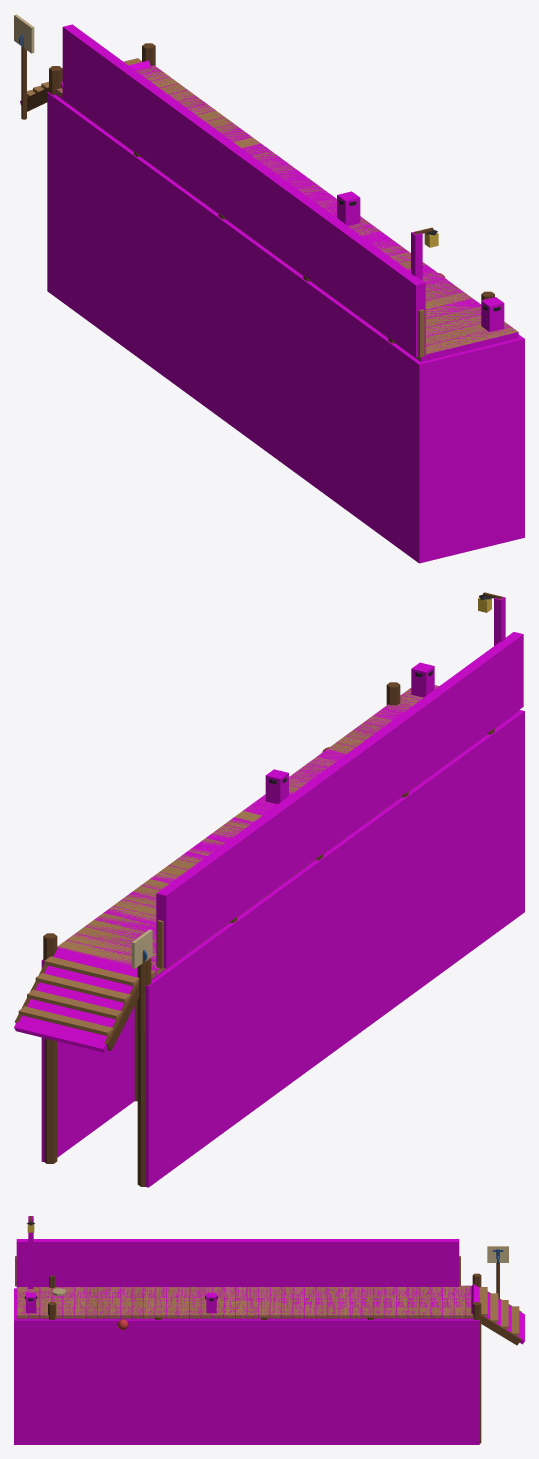
File: jetty.glb
The picture shows the model from 3 angles, top to bottom: view 1: azimuth 30°, elevation 25°; view 2: azimuth 150°, elevation 25°; view 3: azimuth 270°, elevation 25°; orthographic projection. The views are drawn at different scales.
Visible parts, largest first — view 1: COLP_jetty, jetty, COL_jetty; view 2: COLP_jetty, jetty, COL_jetty; view 3: COLP_jetty, jetty, COL_jetty.
Part boxes in pixels (bbox=[...]): COLP_jetty: bbox=[47, 24, 524, 563]; jetty: bbox=[14, 14, 517, 360]; COL_jetty: bbox=[20, 60, 518, 361]; COLP_jetty: bbox=[41, 596, 524, 1187]; jetty: bbox=[15, 592, 502, 1186]; COL_jetty: bbox=[14, 685, 518, 1052]; COLP_jetty: bbox=[14, 1216, 479, 1444]; jetty: bbox=[15, 1216, 521, 1443]; COL_jetty: bbox=[16, 1283, 524, 1344].
Bounding box in the file's own units: 2.58 × 6.23 × 14.44.
